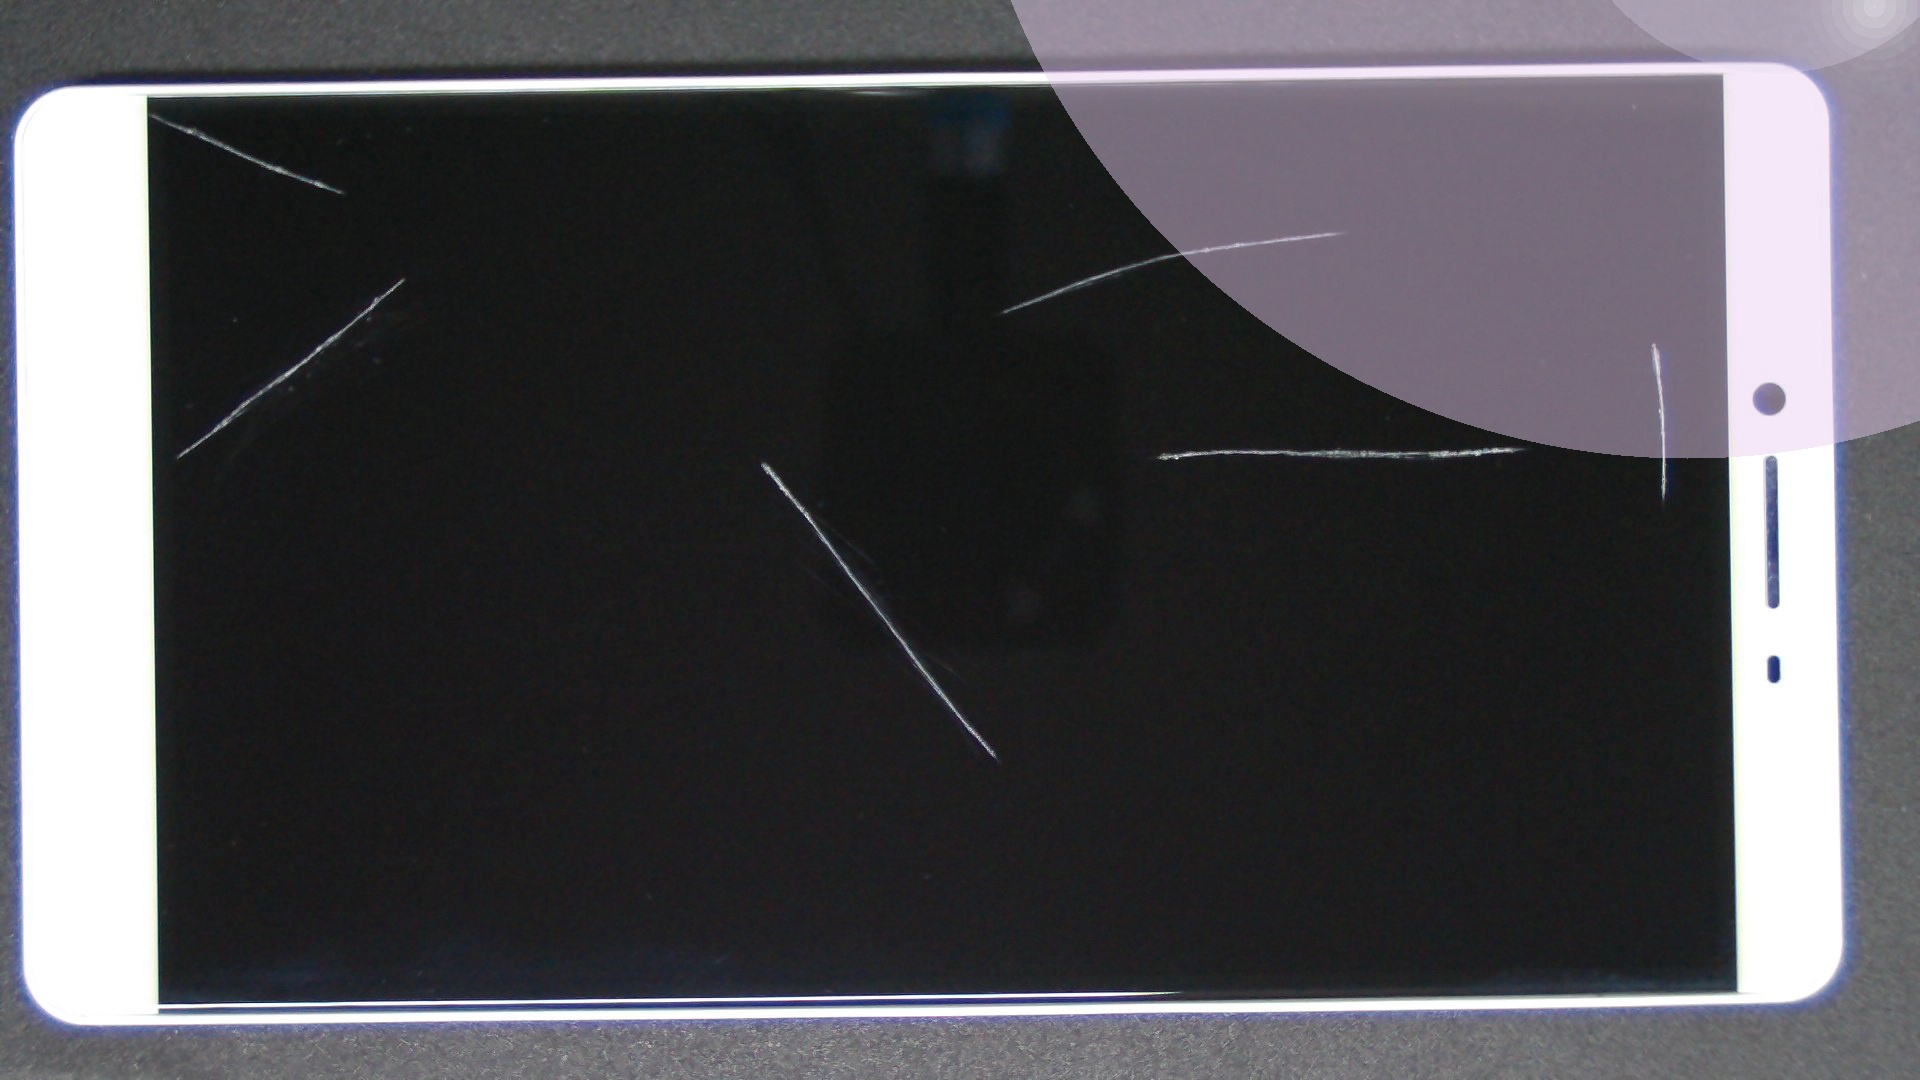oil: (752, 222, 1920, 669), (827, 170, 1920, 512), (382, 229, 1145, 691), (666, 115, 1920, 345), (203, 137, 603, 415), (75, 55, 225, 169)
